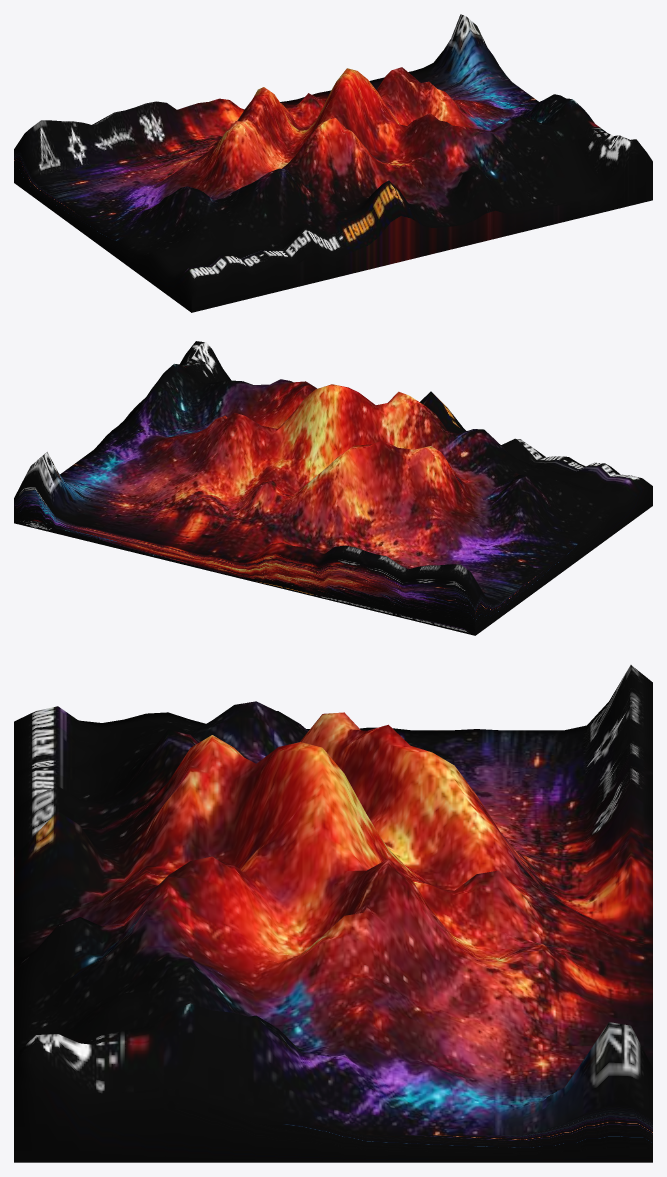
Rendered from WORLD_VFX_08_Fire_Explosion.glb.
The picture shows the model from 3 angles, top to bottom: view 1: azimuth 30°, elevation 25°; view 2: azimuth 150°, elevation 25°; view 3: azimuth 270°, elevation 25°; orthographic projection. The views are drawn at different scales.
Visible parts, largest first — view 1: WORLD_VFX_08_Fire_Explosion; view 2: WORLD_VFX_08_Fire_Explosion; view 3: WORLD_VFX_08_Fire_Explosion.
Part boxes in pixels (left/top/right/bottom): WORLD_VFX_08_Fire_Explosion: left=14, top=14, right=652, bottom=312; WORLD_VFX_08_Fire_Explosion: left=14, top=341, right=652, bottom=635; WORLD_VFX_08_Fire_Explosion: left=14, top=665, right=652, bottom=1162.
Bounding box in the file's own units: 2 × 0.51 × 1.33.
1 material, 1 textured.
